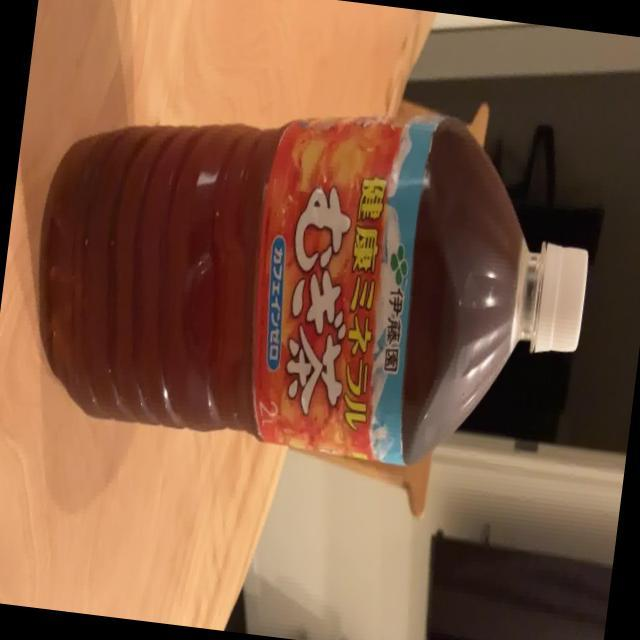good: (14, 68, 605, 484)
